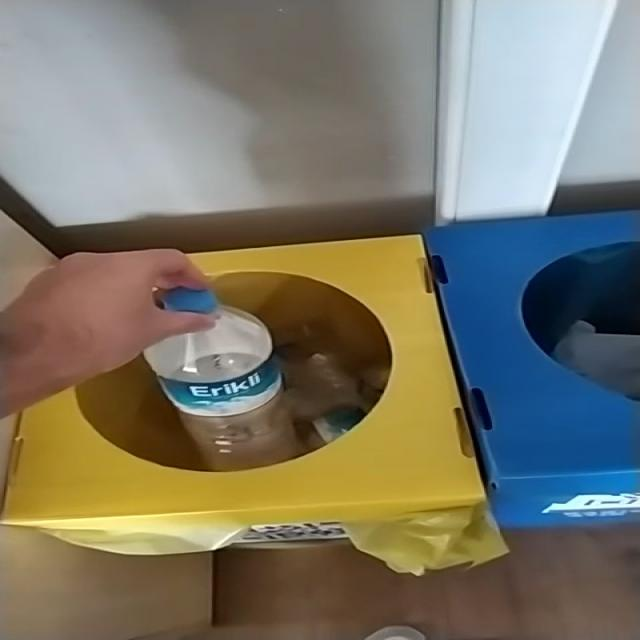plastic: (144, 288, 301, 472)
